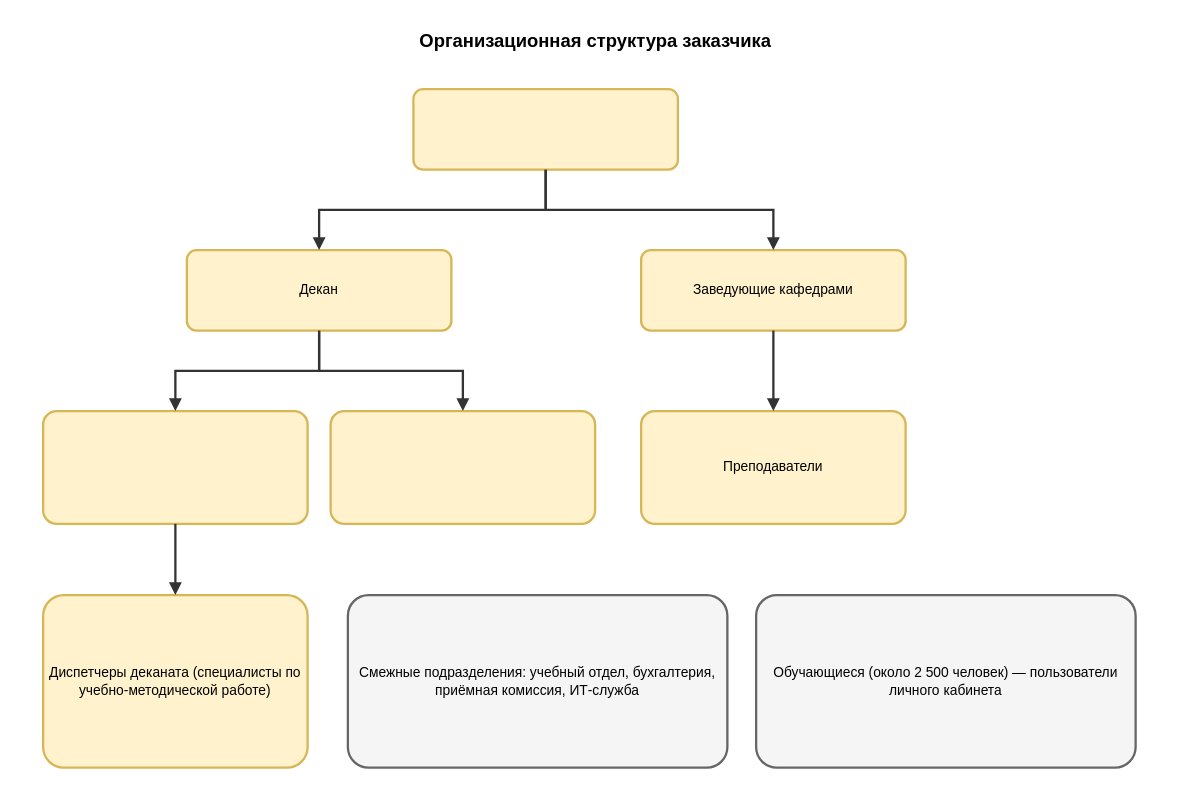
The diagram is 1189 pixels wide and 788 high, and some of its shapes have lost their labels. The shapes that lost their labels are listed below. From the top down, each one's centre as x and y in pixels, then its label:
the point at 545,128: Директор института
the point at 174,466: Заместитель декана по учебной работе
the point at 462,466: Кураторы учебных групп
